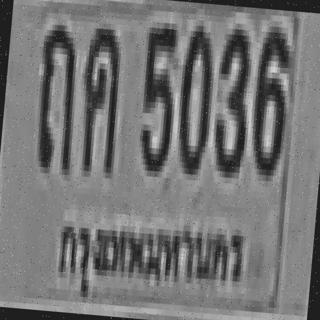A04: (75, 22, 122, 173)
A22: (31, 18, 80, 169)
N00: (172, 19, 216, 170)
N03: (210, 22, 252, 173)
N05: (136, 18, 178, 169)
N06: (246, 20, 291, 176)
